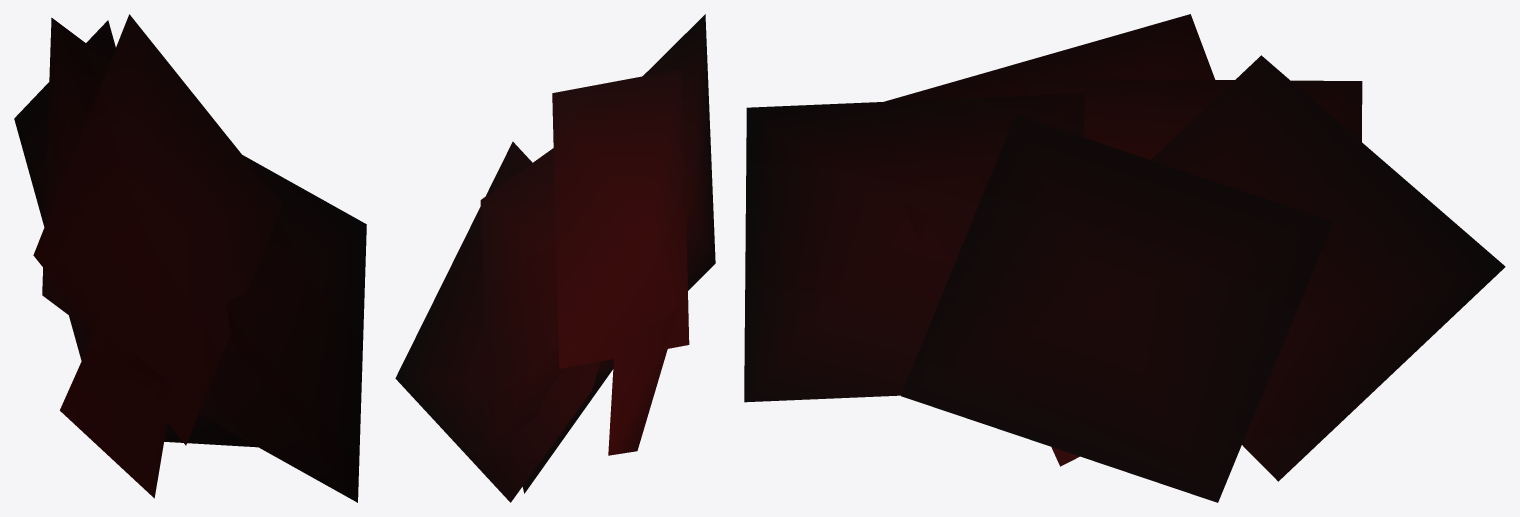
The model's file is TGV_Ivy_02B.fbx.
3 views of the same model, side by side, from view 1: azimuth 30°, elevation 25°; view 2: azimuth 150°, elevation 25°; view 3: azimuth 270°, elevation 25° (orthographic). The views are drawn at different scales.
Parts seen in each view (by area): view 1: TGV_Ivy__02B_LOD1; view 2: TGV_Ivy__02B_LOD1; view 3: TGV_Ivy__02B_LOD1.
Part boxes in pixels (<box>): TGV_Ivy__02B_LOD1: <box>14,14,366,502</box>; TGV_Ivy__02B_LOD1: <box>395,14,715,502</box>; TGV_Ivy__02B_LOD1: <box>744,14,1505,502</box>.
Bounding box in the file's own units: 23.26 × 98.07 × 141.
